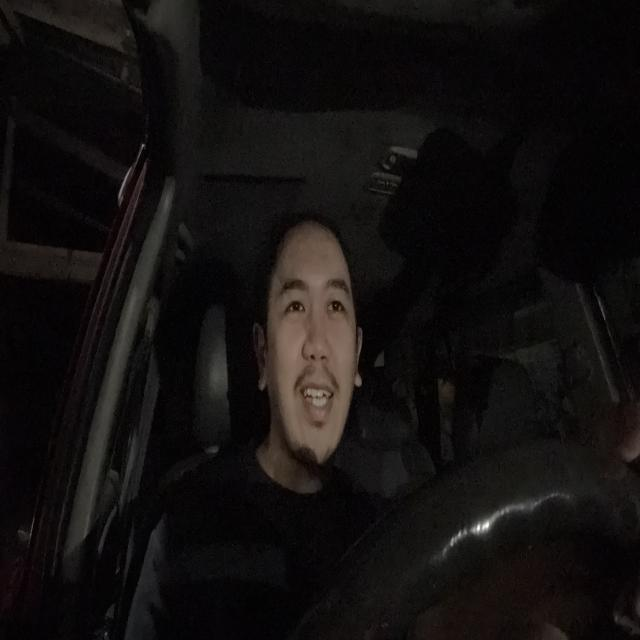open: (322, 273, 354, 325), (275, 280, 311, 324)
